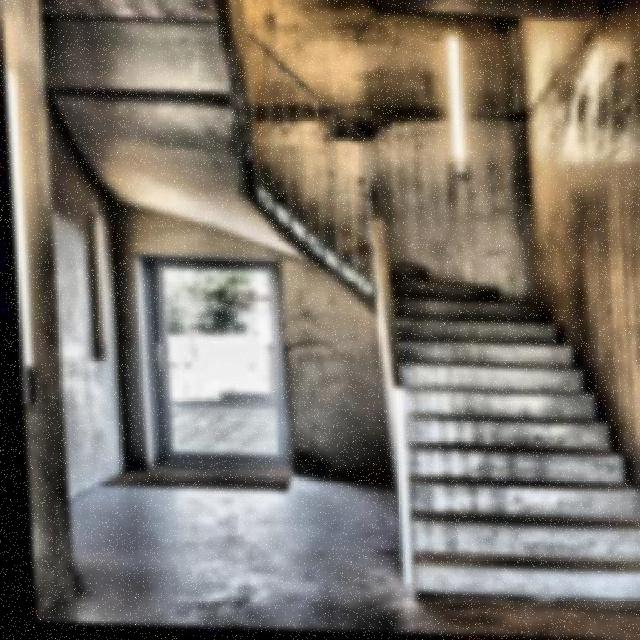stair: (372, 213, 640, 602)
